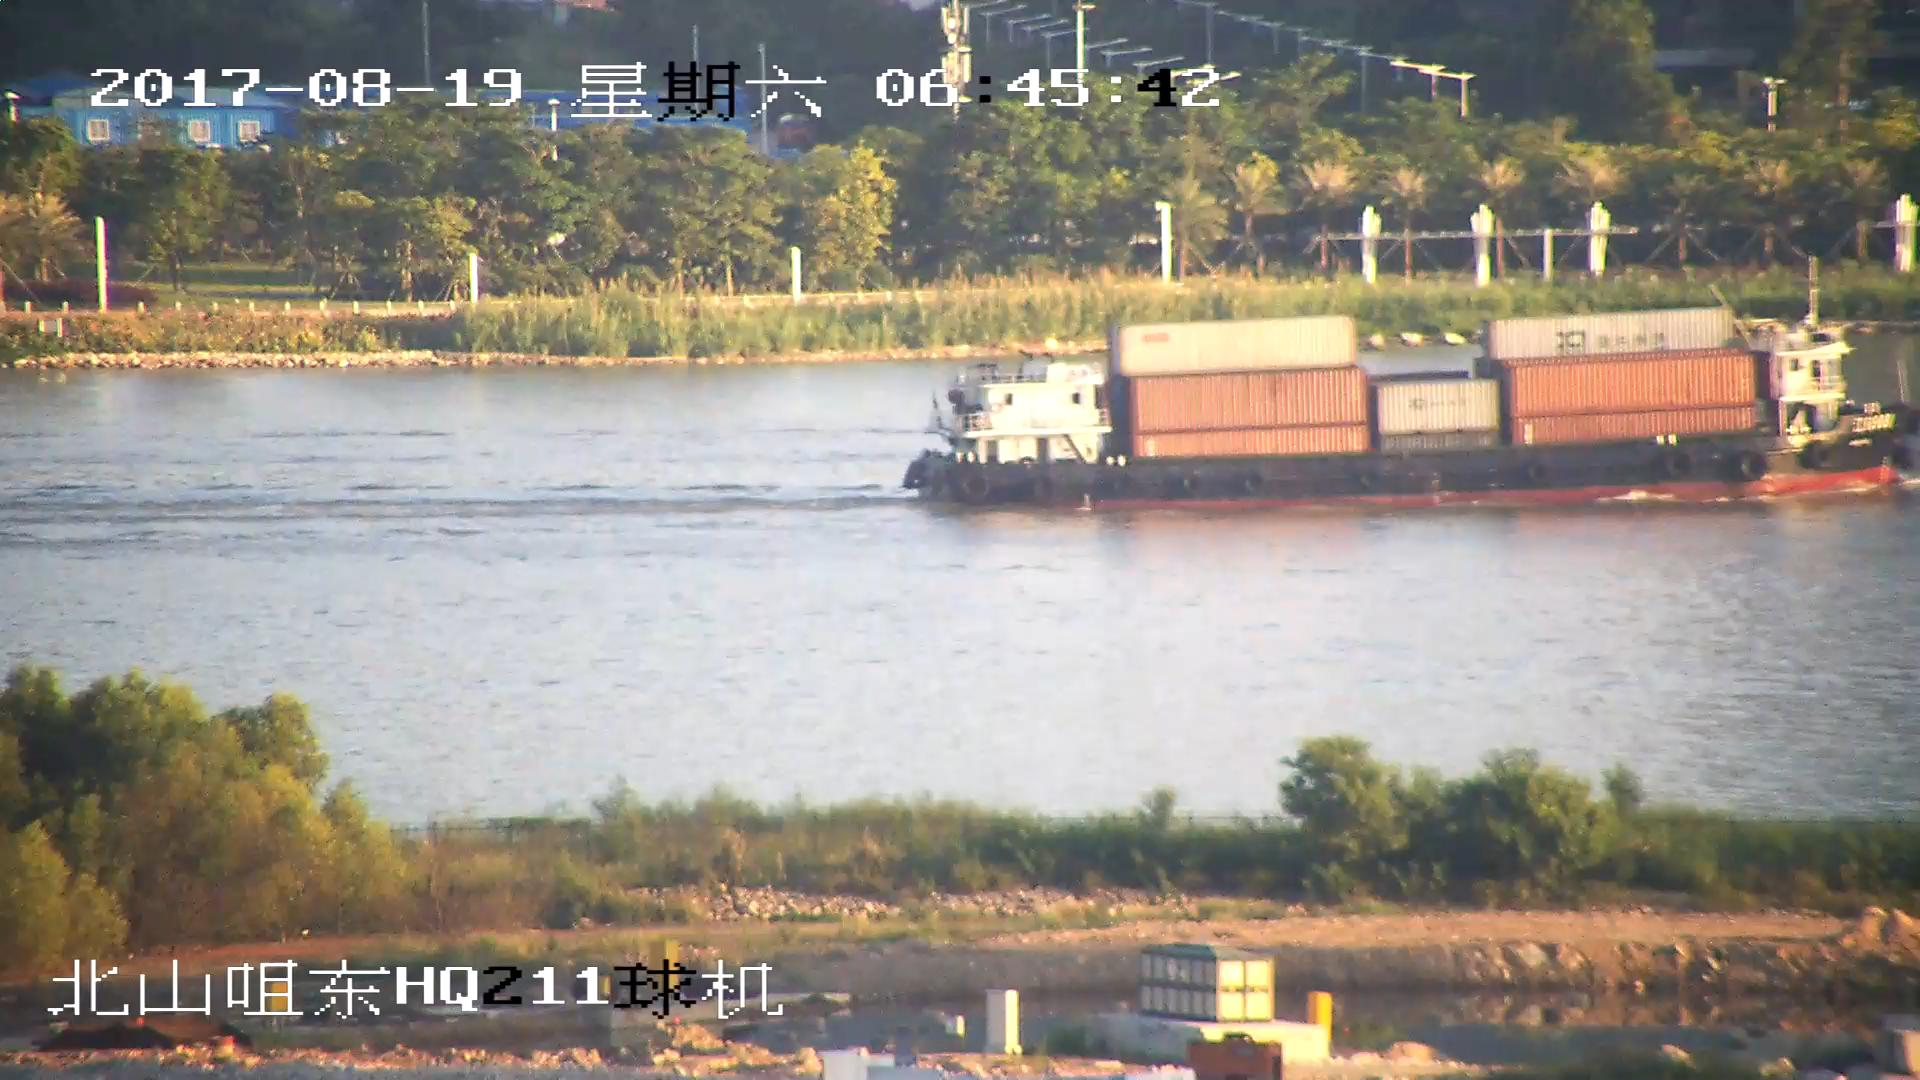container ship: (908, 295, 1904, 507)
